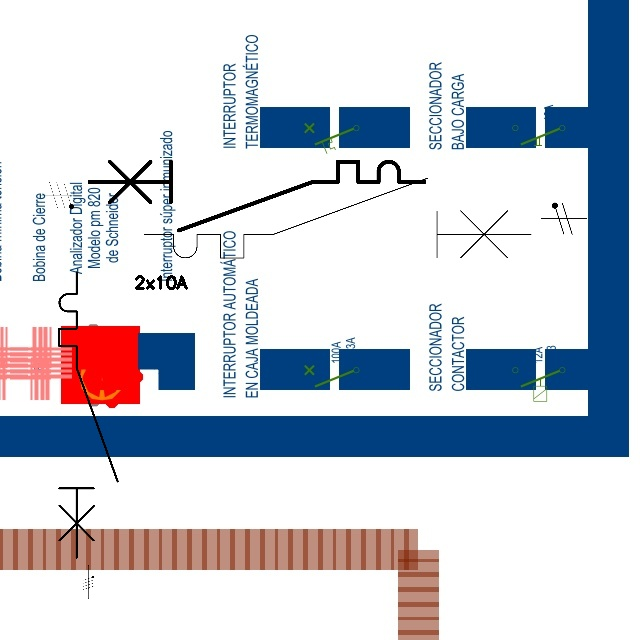interruptor_termomagnetico: (134, 168, 541, 268), (80, 153, 433, 239), (52, 265, 125, 565)
